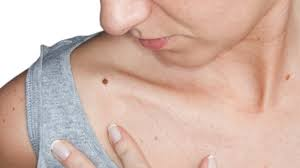mole: (278, 67, 296, 85), (97, 74, 113, 89)
